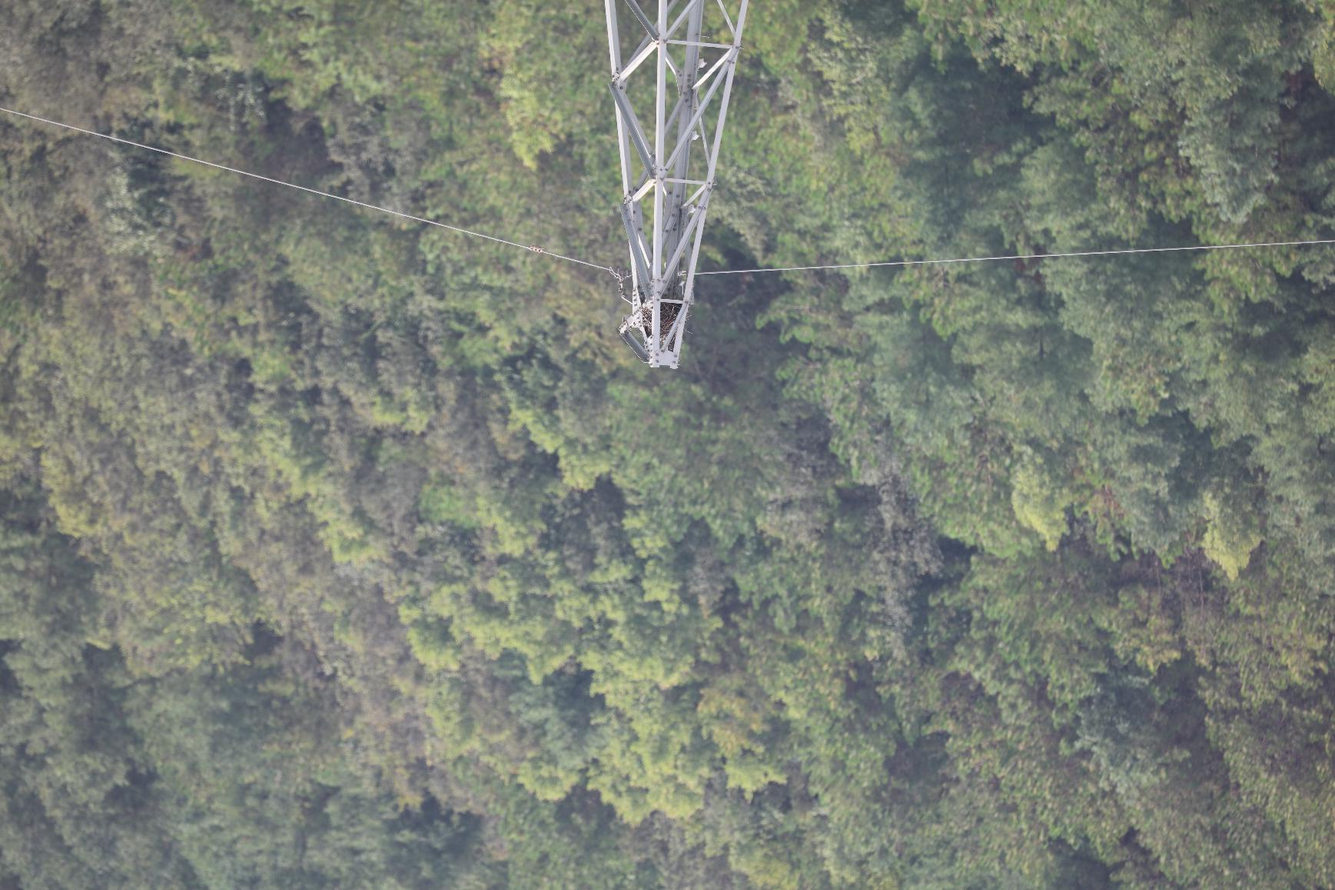nest: (639, 301, 683, 341)
